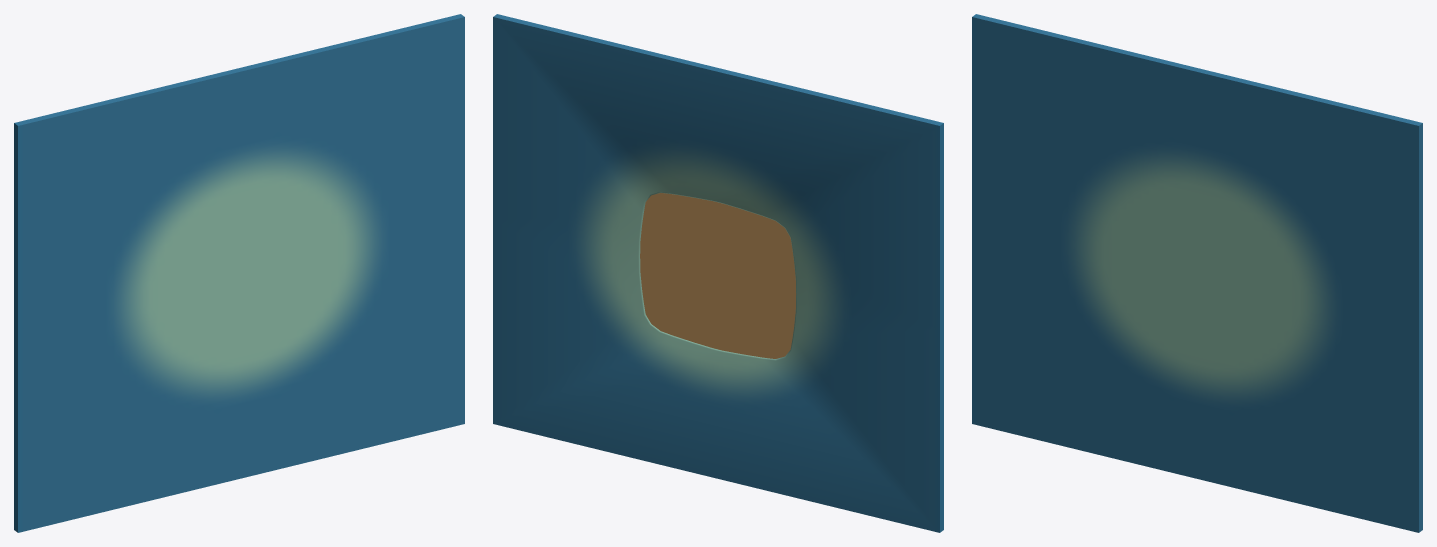
Rendered from Island sea001.fbx.
The picture shows the model from 3 angles, left to right: view 1: azimuth 30°, elevation 25°; view 2: azimuth 150°, elevation 25°; view 3: azimuth 330°, elevation 25°; orthographic projection.
Visible parts, largest first — view 1: Island sea001; view 2: Island sea001; view 3: Island sea001.
Boxes of the visible parts, box(x1,y1,x2,y2) form: Island sea001: box(14, 14, 464, 532); Island sea001: box(493, 14, 943, 532); Island sea001: box(972, 14, 1422, 532).
Bounding box in the file's own units: 377 × 328 × 5.94.
Materials: 1 (1 with a texture image).
